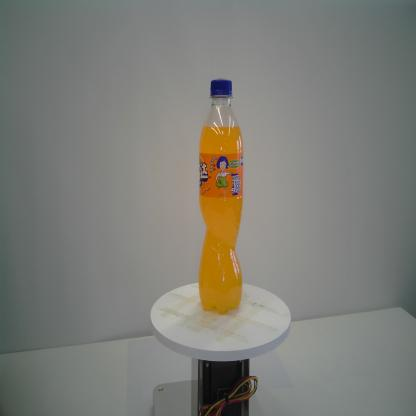Drink: (196, 76, 245, 315)
